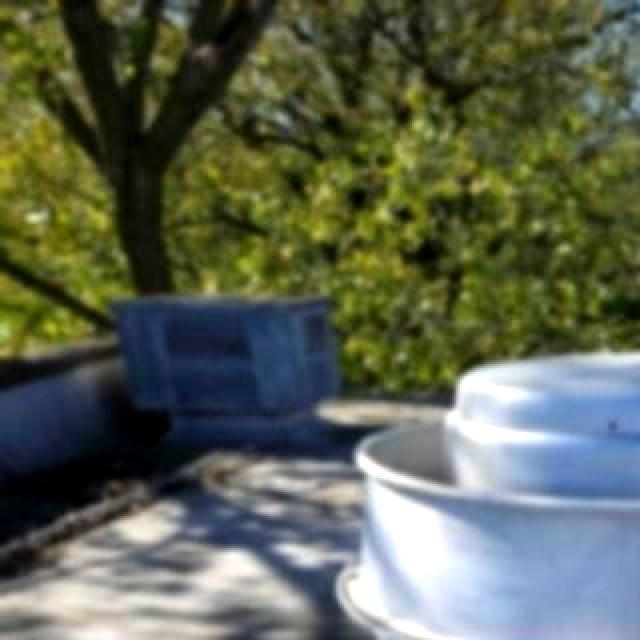GRAVITY-VENT: (328, 342, 640, 640)
SPLIT-SYSTEM: (96, 276, 336, 441)
